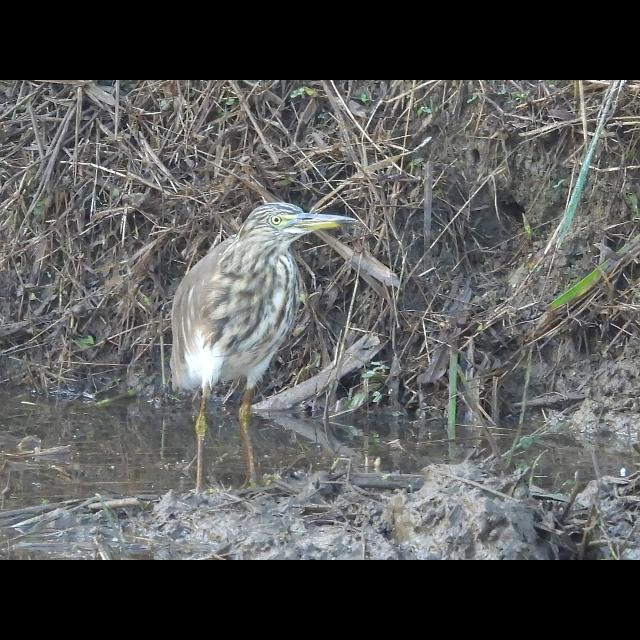heron: (170, 202, 358, 480)
